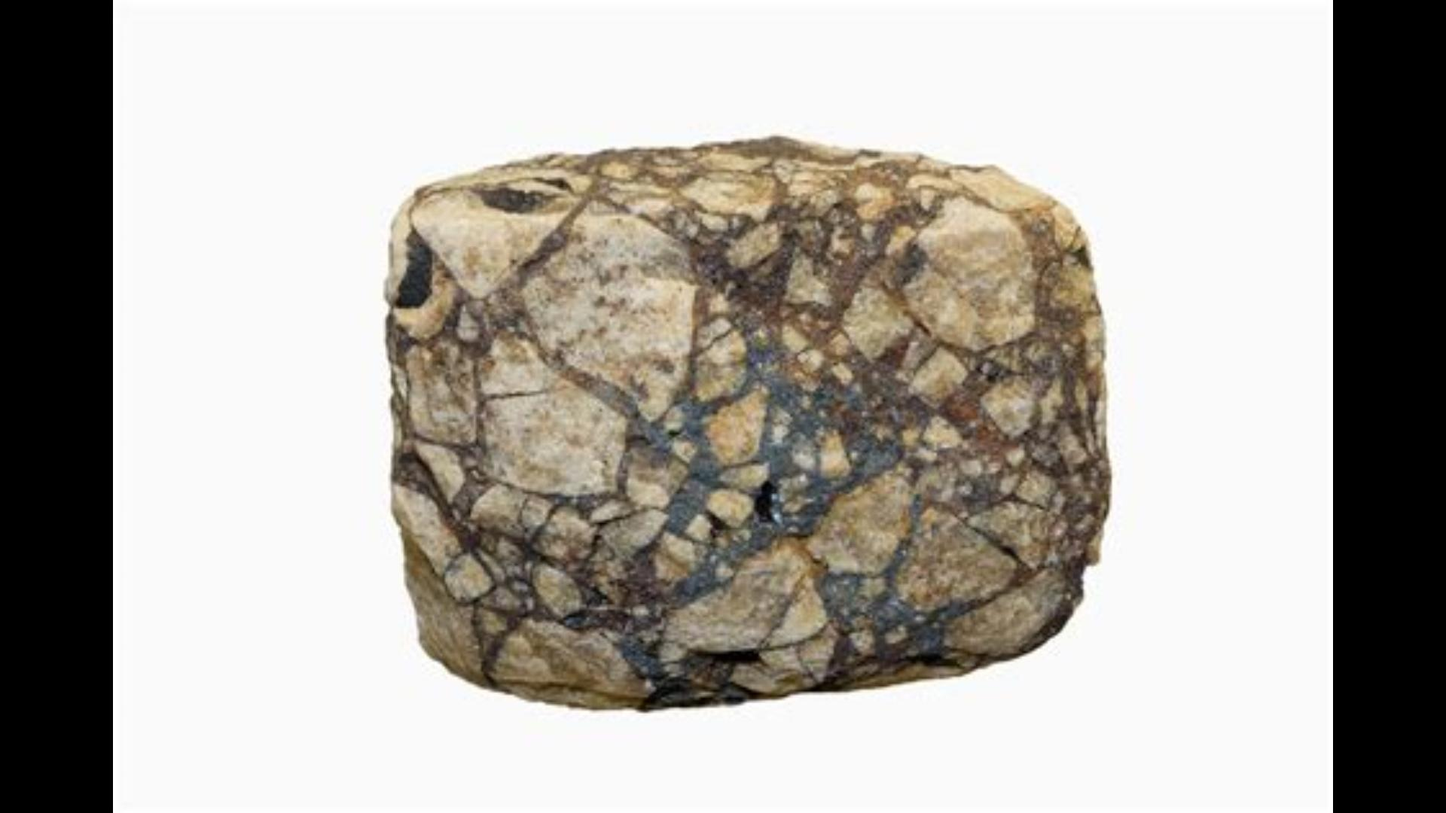rock: (386, 139, 1107, 705)
